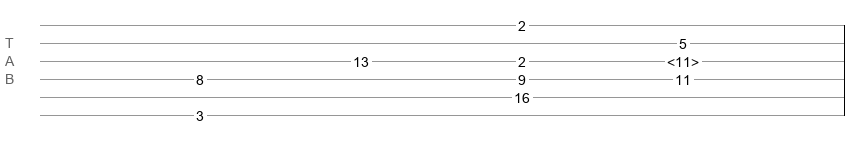11: (675, 72, 691, 82)
13: (353, 54, 369, 64)
16: (514, 90, 530, 100)
2: (518, 54, 526, 64), (518, 18, 526, 28)
3: (196, 108, 204, 118)
5: (679, 36, 687, 46)
8: (196, 72, 204, 82)
9: (518, 72, 526, 82)
harmonic: (667, 54, 699, 64)
